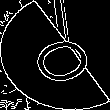O_NE: (15, 24, 95, 86)
